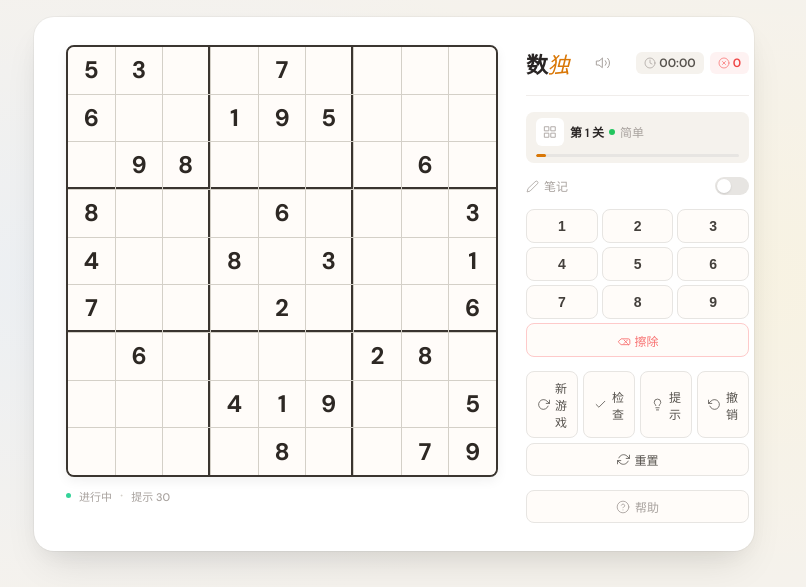
App integration — Controls interaction › number pad button enters value on board
Click the 3rd element with class "cell".
click(187, 70)  # box [163,47,210,94]
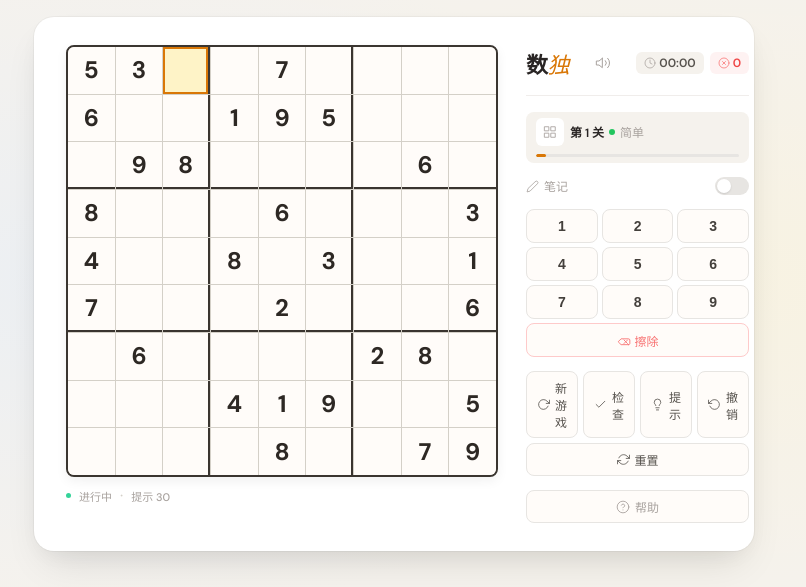
Click the button "4".
click(562, 264)  # box [526,247,598,281]
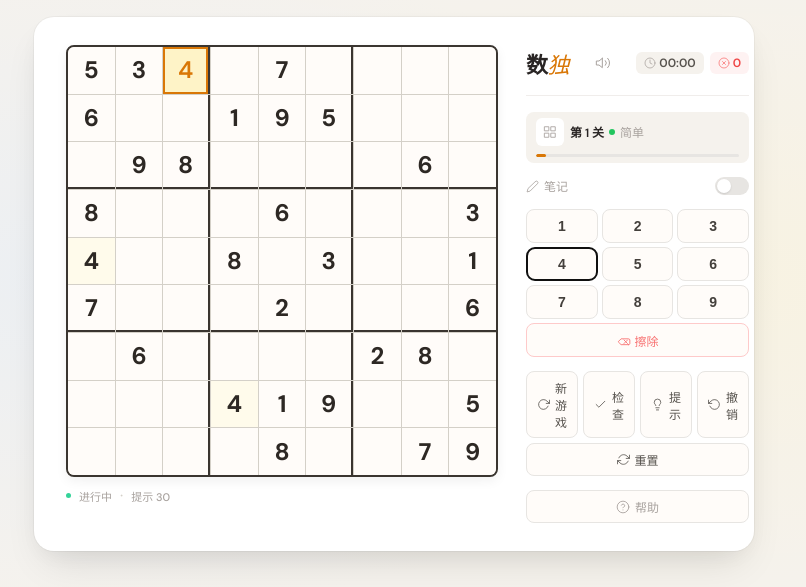
Result: the 1st element with class "cell" reads "4" at [178,54,193,85]
